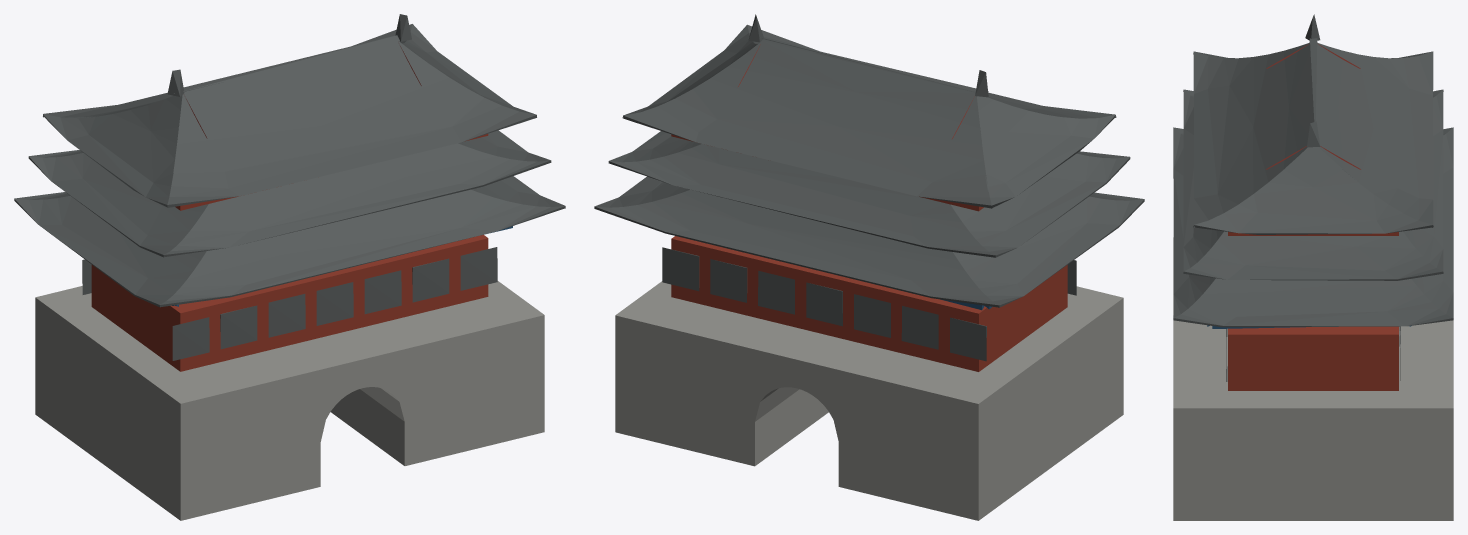
The model's file is yongdingmen-far-a9c69abcf3.glb.
3 views of the same model, side by side, from view 1: azimuth 30°, elevation 25°; view 2: azimuth 150°, elevation 25°; view 3: azimuth 270°, elevation 25° (orthographic). The views are drawn at different scales.
Visible parts, largest first — view 1: yongdingmen coarse.001; view 2: yongdingmen coarse.001; view 3: yongdingmen coarse.001.
Boxes of the visible parts, x1,y1,x2,y2 form: yongdingmen coarse.001: [14, 14, 565, 520]; yongdingmen coarse.001: [594, 14, 1144, 520]; yongdingmen coarse.001: [1173, 14, 1453, 520].
Bounding box in the file's own units: 29 × 26 × 18.03.
